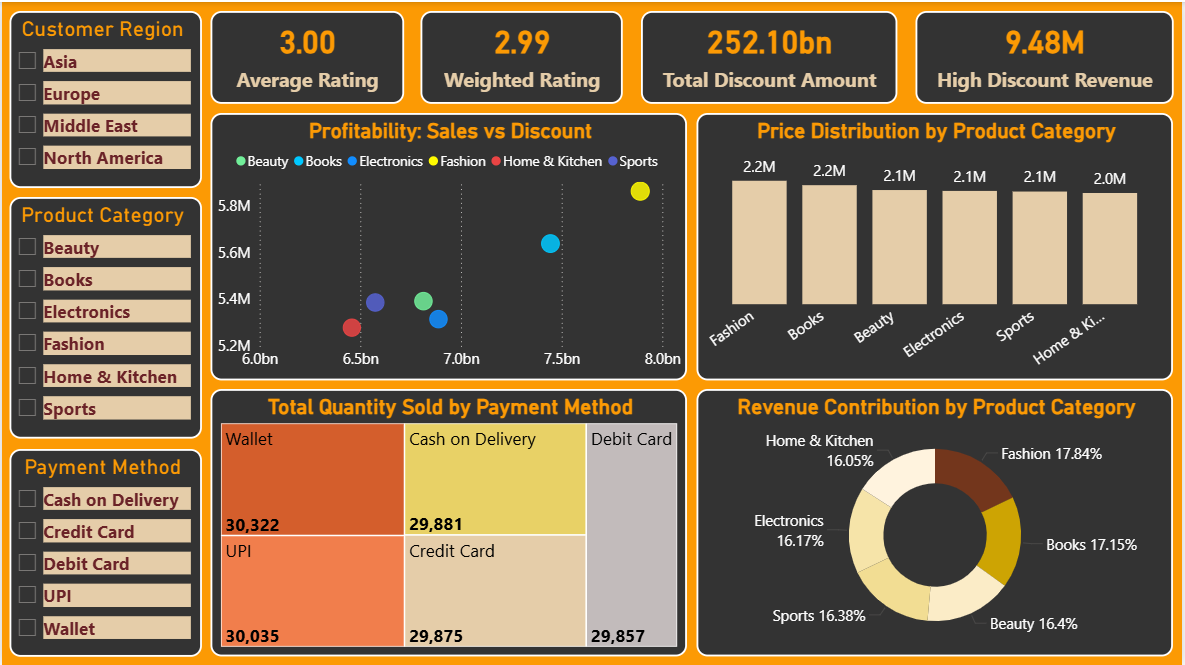

This screenshot's page, from the dashboard's own definition file:
{"tool":"powerbi","page":{"name":"Product & Pricing Insights","canvas":[1280,720],"ordinal":1},"visuals":[{"type":"card","fields":{"Values":["_MEASURES.Average Rating"]},"box":[226.7,10,208.3,100],"z":0},{"type":"card","fields":{"Values":["_MEASURES.Weighted Rating"]},"box":[453.3,10,221.7,100],"z":1000},{"type":"card","fields":{"Values":["_MEASURES.Total Discount Amount"]},"box":[693.3,10,278.3,100],"z":2000},{"type":"card","fields":{"Values":["_MEASURES.High Discount Revenue"]},"box":[990.6,9.8,279.8,100.8],"z":3000},{"type":"scatterChart","title":"Profitability: Sales vs Discount","fields":{"X":["_MEASURES.Total Discount Amount"],"Y":["_MEASURES.Total Revenue"],"Size":["_MEASURES.Total Quantity Sold"],"Series":["Dim_Product.product_category"]},"box":[226.7,120,516.7,290],"z":4000},{"type":"columnChart","title":"Price Distribution by Product Category","fields":{"Category":["Dim_Product.product_category"],"Y":["Sum(Fact_AmazonSales.price)"]},"box":[753.3,120,516.7,290],"z":5000},{"type":"donutChart","title":"Revenue Contribution by Product Category","fields":{"Category":["Dim_Product.product_category"],"Y":["_MEASURES.Revenue Contribution %"]},"box":[753.3,420,516.7,290],"z":6000},{"type":"treemap","title":"Total Quantity Sold by Payment Method","fields":{"Group":["Dim_PaymentMethod.payment_method"],"Values":["_MEASURES.Total Quantity Sold"]},"box":[226.7,420,516.7,290],"z":7000},{"type":"slicer","title":"Payment Method","fields":{"Values":["Dim_PaymentMethod.payment_method"]},"box":[8.3,485,208.3,225],"z":8000},{"type":"slicer","title":"Customer Region","fields":{"Values":["Dim_Region.customer_region"]},"box":[8.3,10,208.3,191.7],"z":9000},{"type":"slicer","title":"Product Category","fields":{"Values":["Dim_Product.product_category"]},"box":[8.3,211.7,208.3,261.7],"z":10000}]}

Visuals, with their boxes in screenshot pixels (x1, y1, x2, y2), scaled from the page's 1280x720 canvas onto the 1185x665 screenshot:
card - _MEASURES.Average Rating: (210, 9, 403, 102)
card - _MEASURES.Weighted Rating: (420, 9, 625, 102)
card - _MEASURES.Total Discount Amount: (642, 9, 899, 102)
card - _MEASURES.High Discount Revenue: (917, 9, 1176, 102)
"Profitability: Sales vs Discount" scatterChart: (210, 111, 688, 379)
"Price Distribution by Product Category" columnChart: (697, 111, 1176, 379)
"Revenue Contribution by Product Category" donutChart: (697, 388, 1176, 656)
"Total Quantity Sold by Payment Method" treemap: (210, 388, 688, 656)
"Payment Method" slicer: (8, 448, 201, 656)
"Customer Region" slicer: (8, 9, 201, 186)
"Product Category" slicer: (8, 196, 201, 437)
